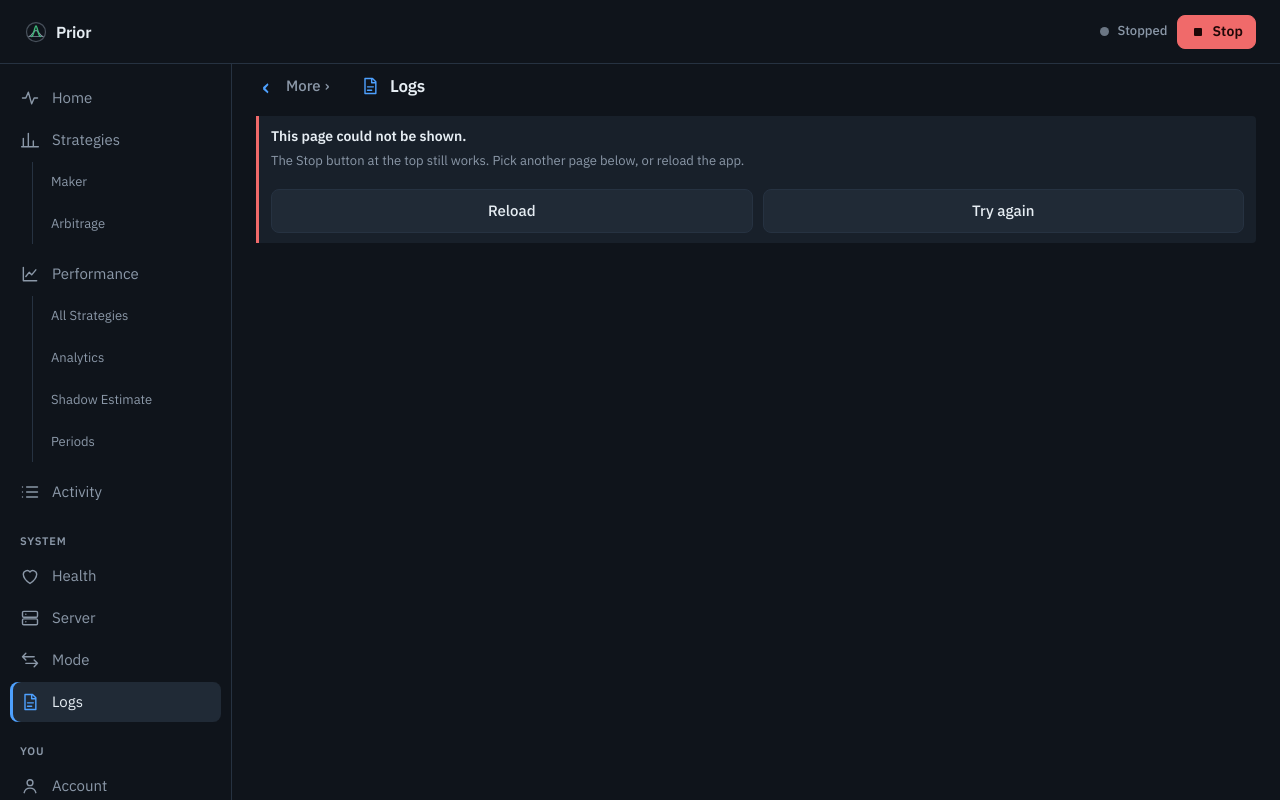
it: S-29 error boundary › a throwing page shows the fallback while Stop stays present and works
Click the button with aria-label "stop the bot" at point(1217, 32), box [1178,14,1256,48]
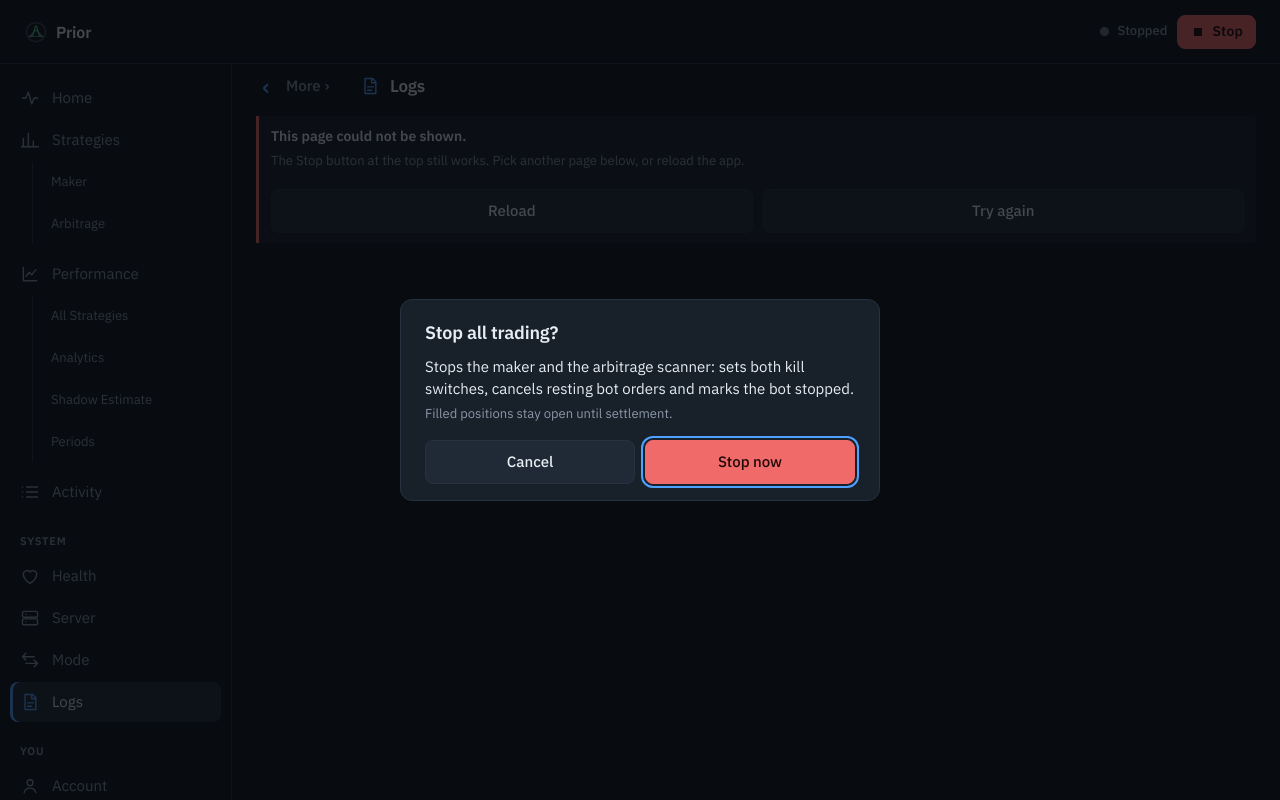
Click the button "Stop now" at point(750, 462), box [645,440,855,484]
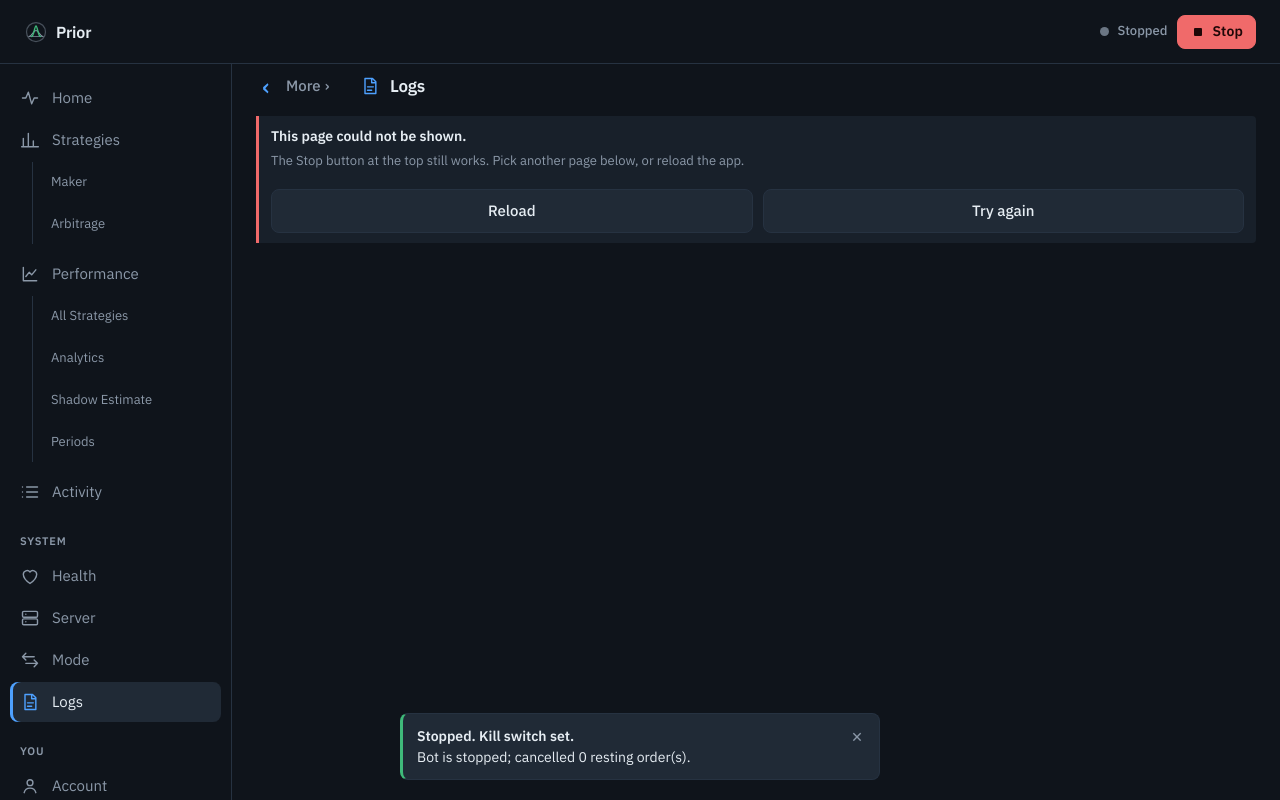
Result: the text "Stopped. Kill switch set." is shown at [417,727,574,745]
